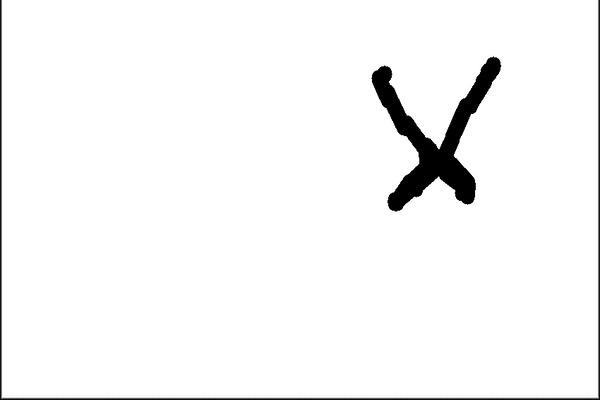X: (347, 45, 511, 215)
